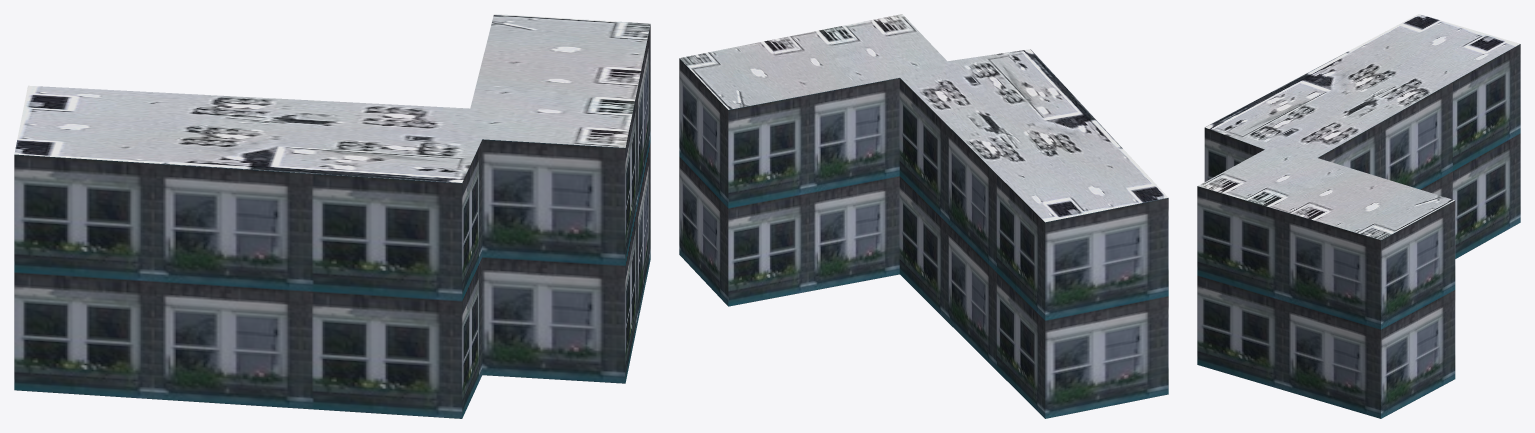
The model's file is ResTex__4405.fbx.
3 views of the same model, side by side, from view 1: azimuth 30°, elevation 25°; view 2: azimuth 150°, elevation 25°; view 3: azimuth 270°, elevation 25° (orthographic). The views are drawn at different scales.
Visible parts, largest first — view 1: CityEngineMaterial_11_m, CityEngineMaterial_2_m; view 2: CityEngineMaterial_11_m, CityEngineMaterial_2_m; view 3: CityEngineMaterial_11_m, CityEngineMaterial_2_m.
Boxes of the visible parts, x1,y1,x2,y2 form: CityEngineMaterial_11_m: (14,25,650,418); CityEngineMaterial_2_m: (14,14,650,182); CityEngineMaterial_11_m: (679,58,1168,418); CityEngineMaterial_2_m: (679,14,1168,222); CityEngineMaterial_11_m: (1197,44,1520,418); CityEngineMaterial_2_m: (1198,14,1519,239).
Bounding box in the file's own units: 16.28 × 6 × 9.83.
Materials: 2 (2 with a texture image).
